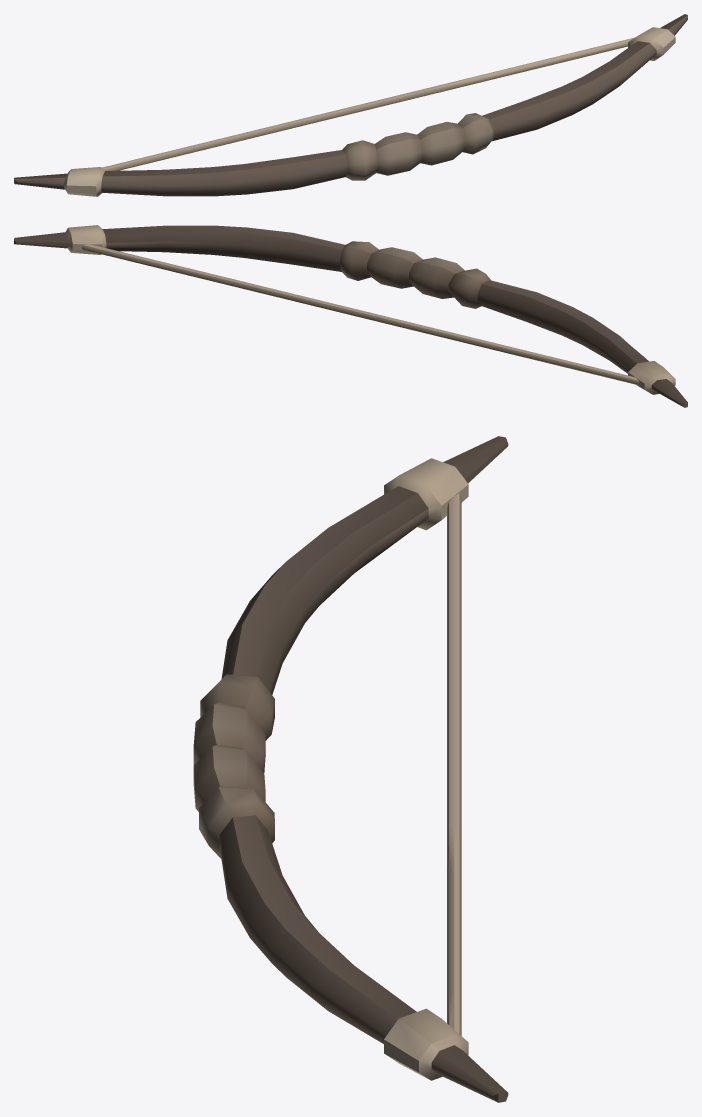
The model's file is XW_bow_A_withString.glb.
3 renders of one model, top to bottom at view 1: azimuth 30°, elevation 25°; view 2: azimuth 150°, elevation 25°; view 3: azimuth 270°, elevation 25°, orthographic. The views are drawn at different scales.
Visible parts, largest first — view 1: bow_A_withString; view 2: bow_A_withString; view 3: bow_A_withString.
Boxes of the visible parts, x1,y1,x2,y2 form: bow_A_withString: (14,14,687,196); bow_A_withString: (14,225,687,407); bow_A_withString: (193,436,508,1102).
Size of the model in its own units: 1.96 by 0.0915 by 0.3957.
